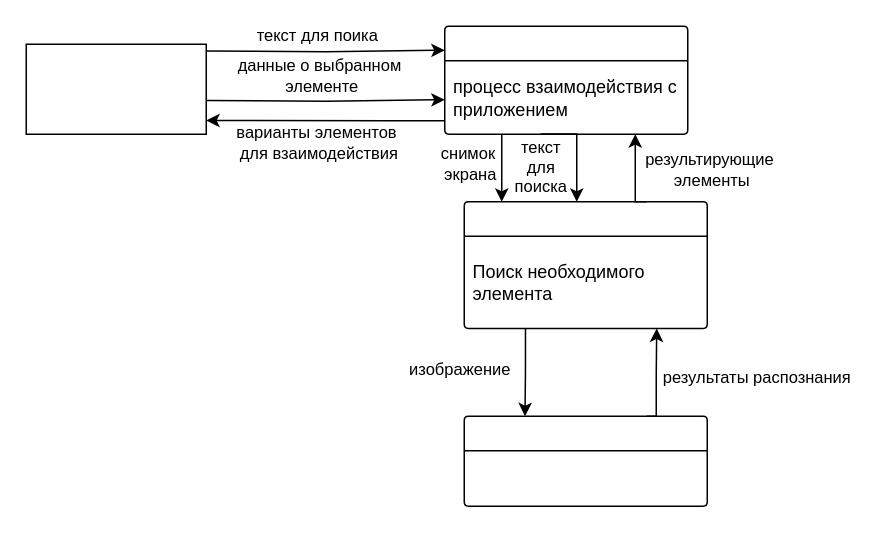
Image size: 876x534. Some labels were removed from this diagram. Here are the shapes that lost their labels. From the top down, the centre of each, then its label:
[115,88]: Пользователь
[585,460]: Распознание текста
